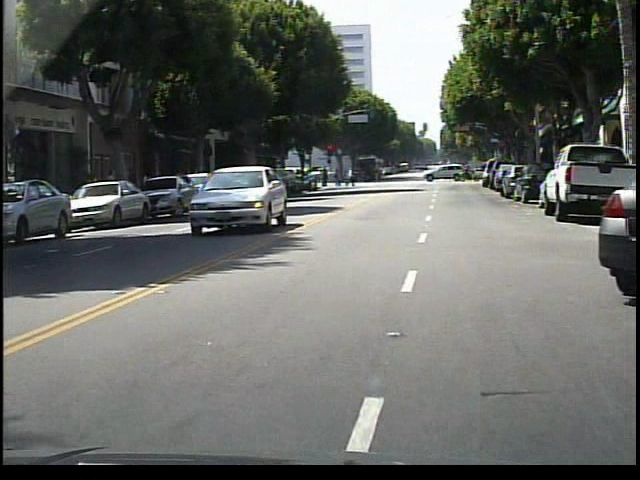person: (340, 163, 360, 192)
